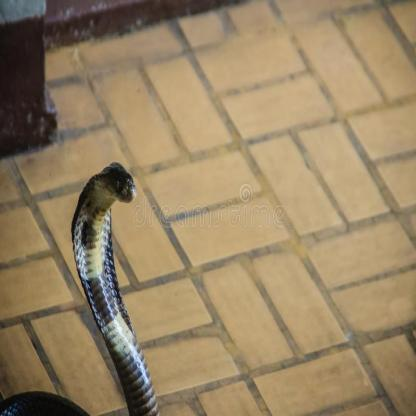Snake: (72, 160, 161, 416)
